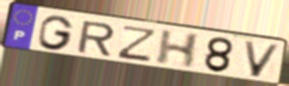8: (203, 36, 235, 74)
G: (37, 14, 76, 51)
H: (153, 29, 202, 70)
R: (75, 20, 117, 58)
V: (242, 39, 283, 79)
Z: (114, 24, 160, 63)
